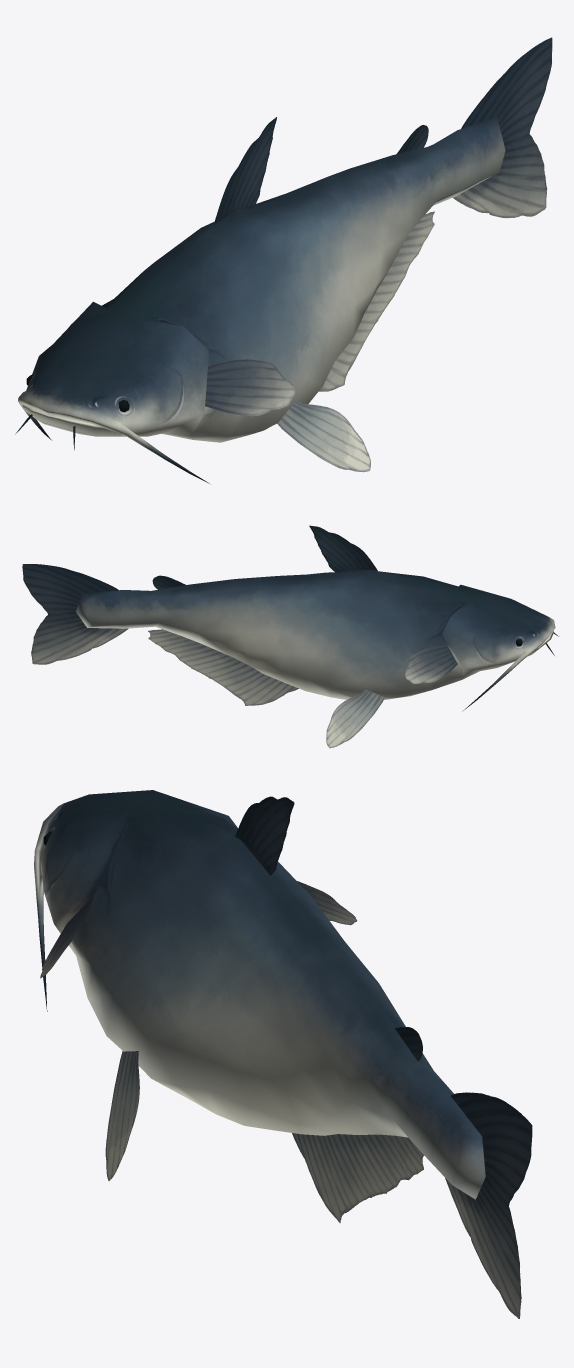
The model's file is Catfish.fbx.
The picture shows the model from 3 angles, top to bottom: view 1: azimuth 30°, elevation 25°; view 2: azimuth 150°, elevation 25°; view 3: azimuth 270°, elevation 25°; orthographic projection. The views are drawn at different scales.
Visible parts, largest first — view 1: fishBody_geo, fins_geo; view 2: fishBody_geo, fins_geo; view 3: fishBody_geo, fins_geo.
Part boxes in pixels (x1,y1,x2,y2): fishBody_geo: (18, 117, 505, 483); fins_geo: (69, 37, 552, 472); fishBody_geo: (76, 570, 555, 711); fins_geo: (22, 525, 457, 748); fishBody_geo: (34, 790, 485, 1199); fins_geo: (40, 796, 532, 1318).
Bounding box in the file's own units: 106 × 47.47 × 53.13.
1 material, 1 textured.
